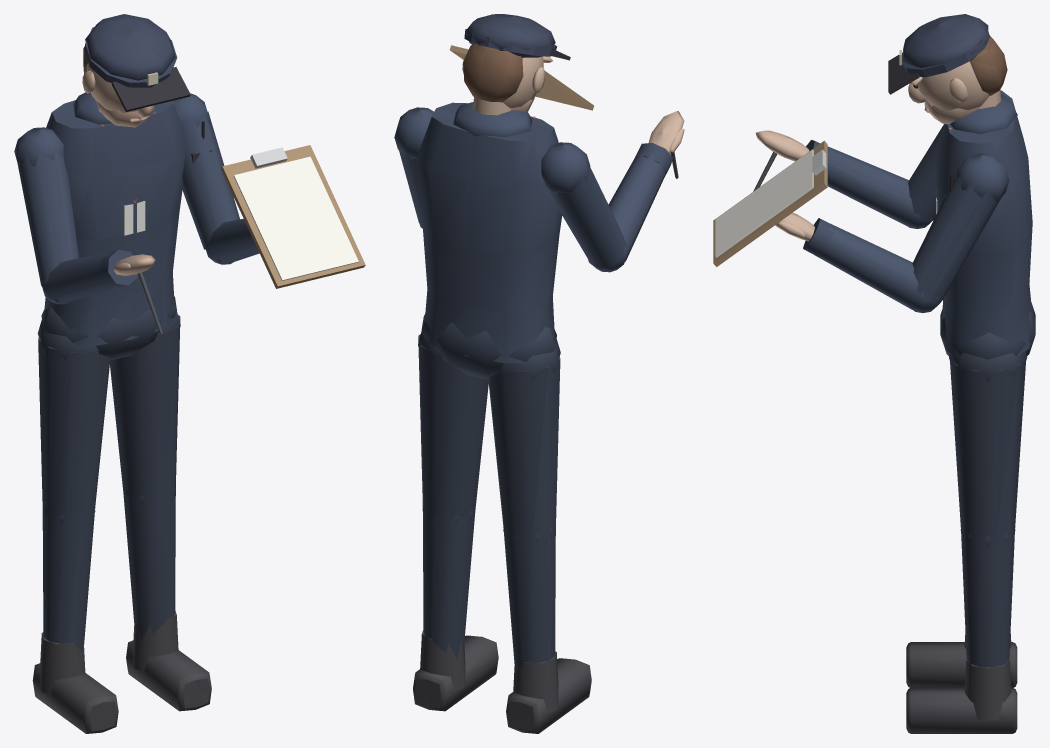
File: rennick_uniform_a_writing.glb
3 views of the same model, side by side, from view 1: azimuth 30°, elevation 25°; view 2: azimuth 150°, elevation 25°; view 3: azimuth 270°, elevation 25° (orthographic).
Visible parts, largest first — view 1: body; view 2: body; view 3: body.
Boxes of the visible parts, <box> form: body: <box>14,14,365,733</box>; body: <box>394,14,684,733</box>; body: <box>713,14,1035,733</box>.
Size of the model in its own units: 0.5797 by 1.71 by 0.7272.
